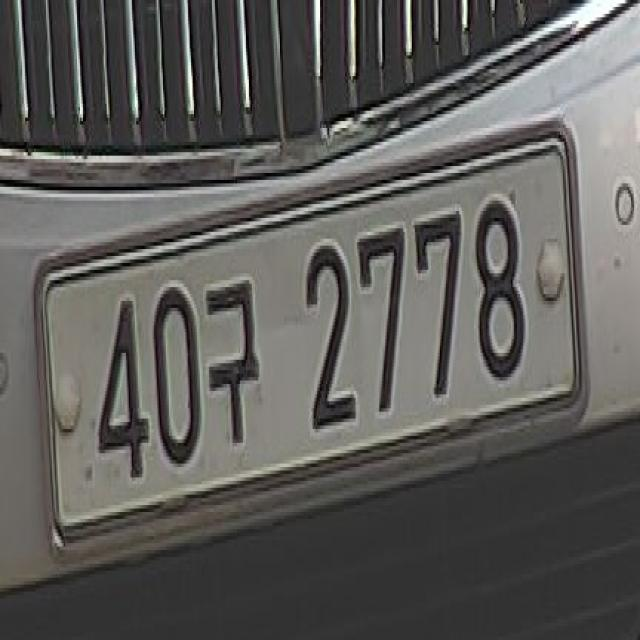plat: (26, 113, 594, 561)
